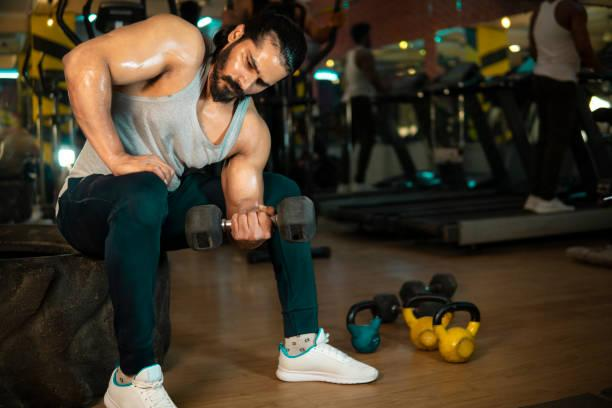Pessoa: (57, 14, 377, 407), (524, 0, 603, 213), (342, 22, 385, 185), (221, 0, 344, 42)
